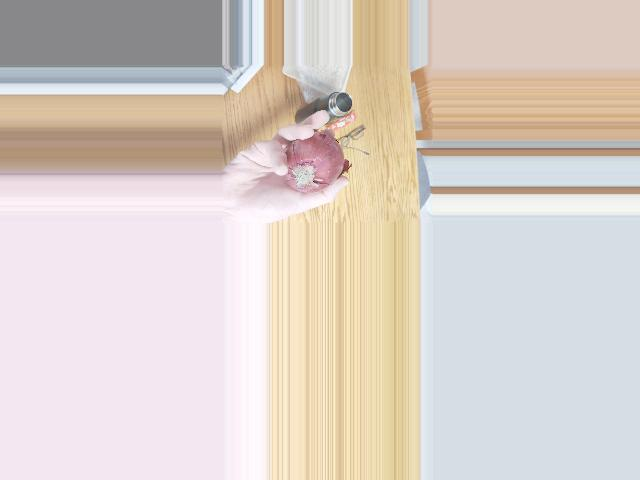onion: (282, 138, 342, 192)
